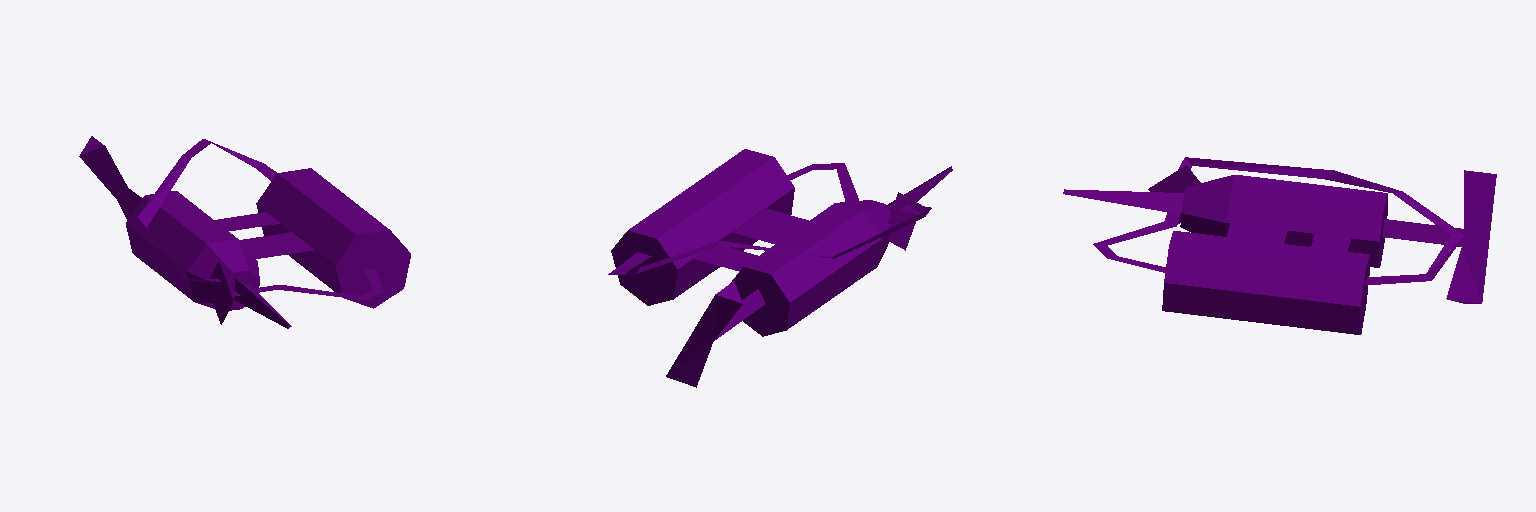
File: psycho.obj
3 views of the same model, side by side, from view 1: azimuth 30°, elevation 25°; view 2: azimuth 150°, elevation 25°; view 3: azimuth 270°, elevation 25° (orthographic).
Parts seen in each view (by area): view 1: Cylinder01; view 2: Cylinder01; view 3: Cylinder01.
Part boxes in pixels (x1,y1,x2,y2): Cylinder01: (79, 136, 410, 328); Cylinder01: (608, 149, 952, 387); Cylinder01: (1063, 157, 1496, 334).
Bounding box in the file's own units: 31.98 × 15.33 × 51.47.